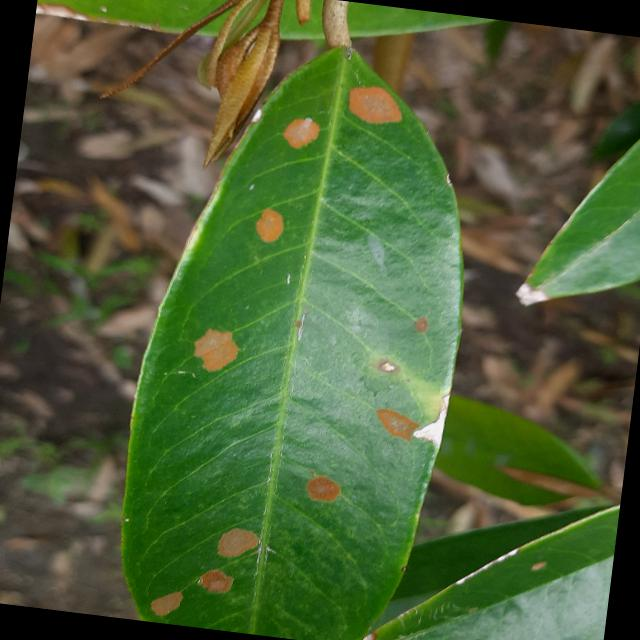Algal Leaf Spot: (98, 19, 487, 639)
